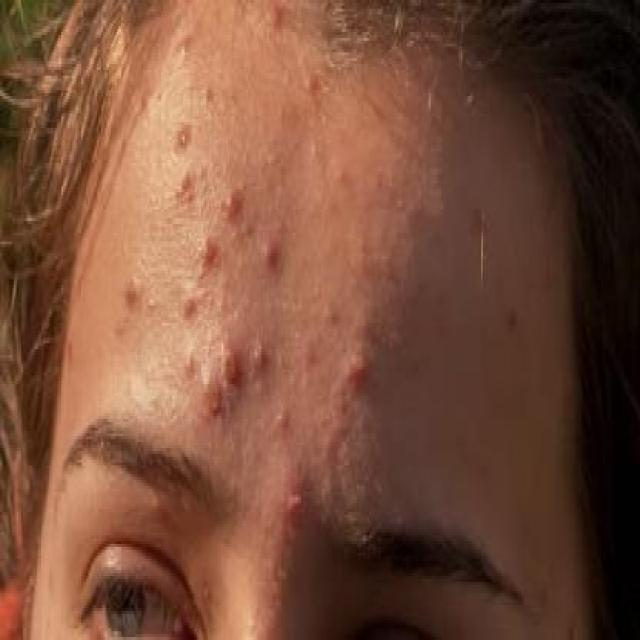papules: (337, 329, 388, 404), (189, 218, 226, 291), (211, 332, 251, 392), (174, 152, 206, 210), (173, 276, 204, 334), (246, 323, 274, 381), (254, 227, 288, 273), (262, 402, 298, 445), (202, 366, 229, 422), (220, 172, 251, 218), (295, 58, 323, 108), (115, 271, 146, 314), (171, 23, 198, 67), (257, 0, 289, 32), (175, 343, 197, 378)
pustules: (278, 474, 316, 527)
